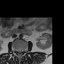CCS_stenosis: (19, 47, 20, 55)
LFS_normal: (22, 47, 25, 53)
LLS_normal: (20, 47, 22, 53)
RFS_normal: (15, 47, 17, 53)
RLS_normal: (17, 47, 19, 54)
